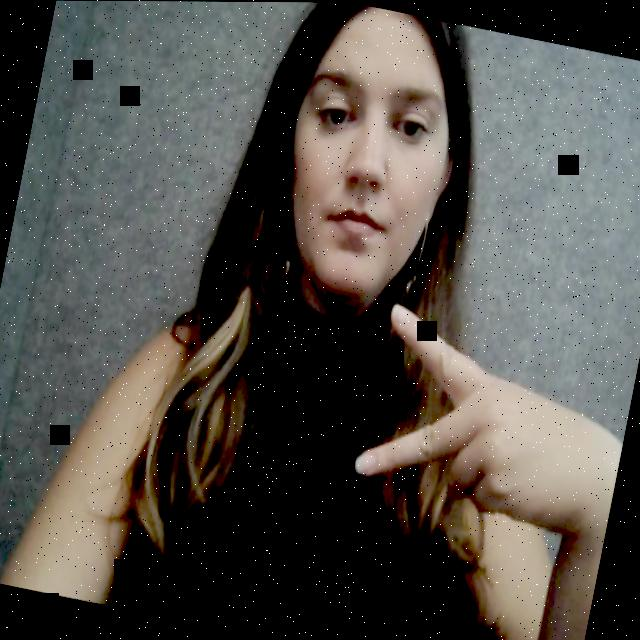Scissors: (314, 298, 636, 623)
